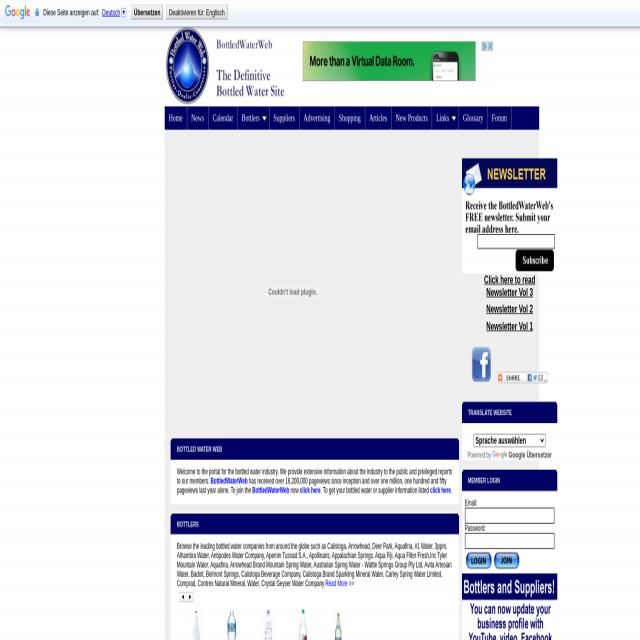button: (165, 20, 286, 105), (218, 607, 249, 640), (392, 105, 432, 130), (290, 605, 316, 640), (326, 605, 352, 640), (299, 105, 335, 130), (256, 606, 282, 640), (166, 4, 227, 18), (186, 605, 210, 640), (516, 250, 554, 272), (471, 346, 492, 383), (208, 105, 238, 130), (270, 105, 300, 130), (335, 105, 365, 130), (238, 106, 269, 130), (459, 105, 488, 130), (365, 105, 391, 130), (432, 106, 459, 129), (3, 3, 33, 23), (488, 105, 511, 130), (497, 371, 548, 382), (165, 105, 187, 130), (187, 105, 209, 130), (466, 552, 492, 570), (494, 552, 519, 569), (132, 5, 162, 19), (492, 450, 508, 460), (186, 593, 194, 602), (180, 593, 187, 601), (487, 42, 493, 51), (482, 41, 487, 51), (121, 8, 126, 17)
field: (465, 507, 555, 523), (465, 532, 555, 548), (478, 234, 554, 248), (474, 433, 546, 446)
